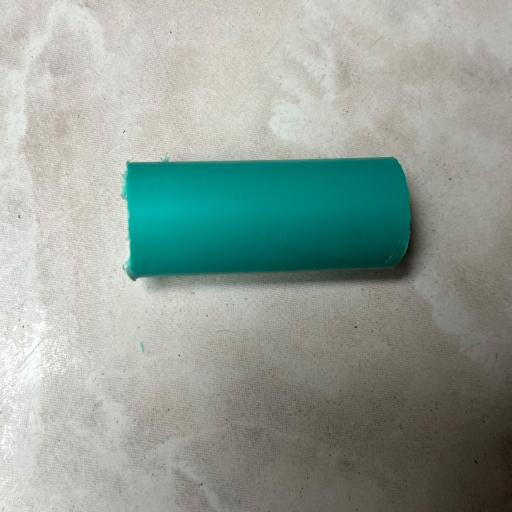PVC: (102, 155, 470, 304)
